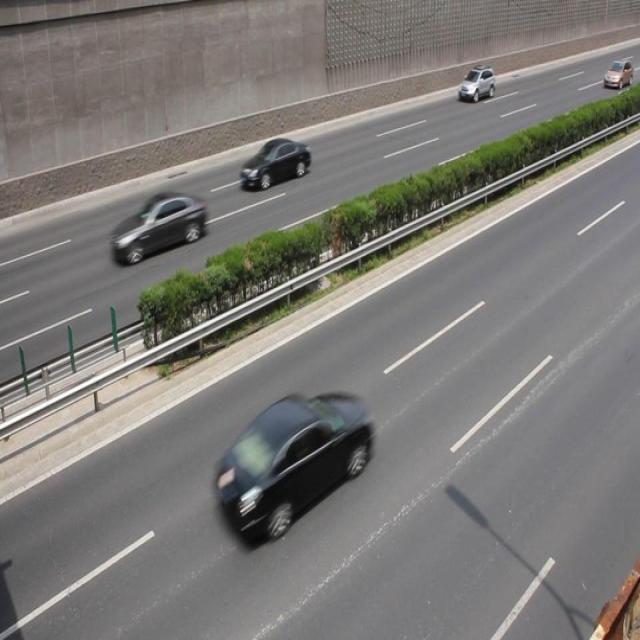car: (208, 390, 374, 549), (109, 190, 206, 266), (240, 136, 310, 192), (457, 67, 494, 104)
